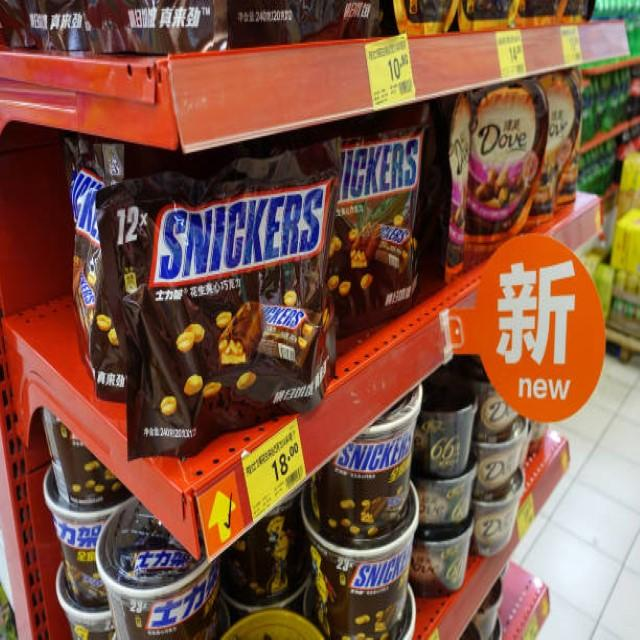snickers_chocolate: (122, 188, 328, 420), (338, 137, 422, 325)
